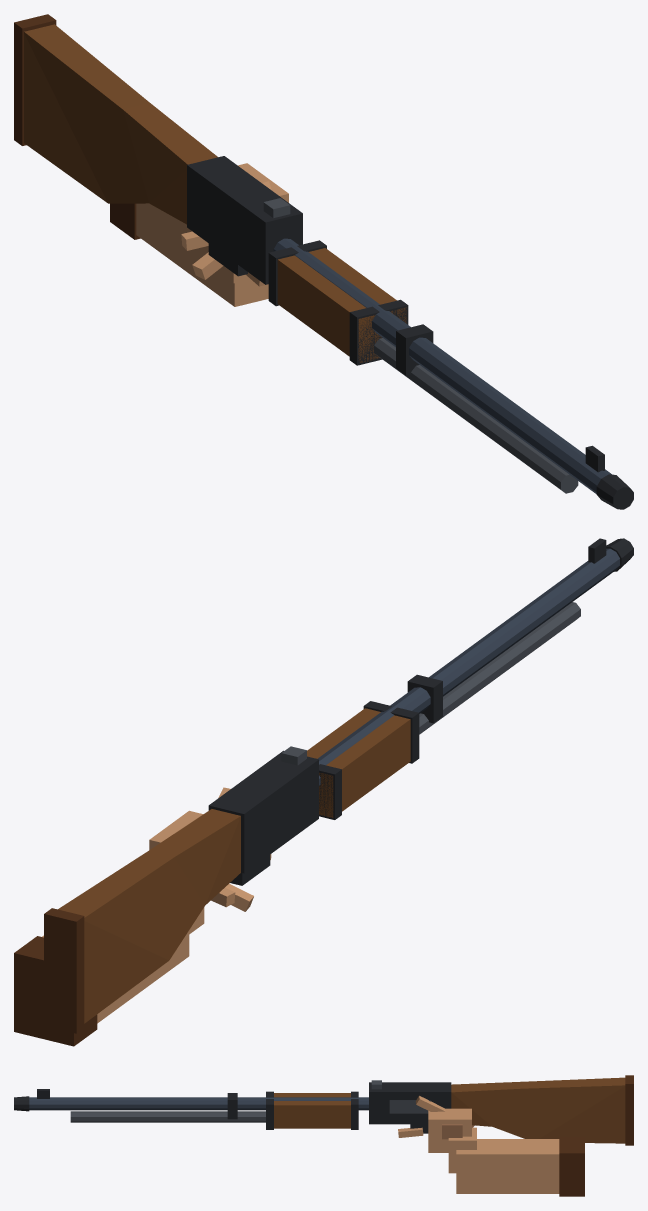
The model's file is shotgun_fps_arm.obj.
3 renders of one model, top to bottom at view 1: azimuth 30°, elevation 25°; view 2: azimuth 150°, elevation 25°; view 3: azimuth 270°, elevation 25°, orthographic. The views are drawn at different scales.
Visible parts, largest first — view 1: stock, barrel, receiver, pump, mag_tube, forearm, hand, sights, sleeve; view 2: stock, barrel, receiver, pump, sleeve, mag_tube, hand, forearm, sights; view 3: stock, forearm, barrel, pump, receiver, hand, mag_tube, sleeve, sights.
Boxes of the visible parts, x1,y1,x2,y2 form: stock: (14, 14, 217, 224); barrel: (273, 238, 633, 509); receiver: (187, 156, 302, 284); pump: (268, 240, 408, 365); mag_tube: (374, 338, 578, 493); forearm: (136, 203, 268, 306); hand: (181, 163, 288, 286); sights: (263, 198, 604, 472); sleeve: (110, 203, 140, 239); stock: (44, 809, 240, 1033); barrel: (317, 538, 633, 785); receiver: (208, 750, 318, 873); pump: (307, 701, 419, 819); sleeve: (14, 936, 97, 1046); mag_tube: (419, 602, 580, 734); hand: (149, 787, 271, 937); forearm: (42, 935, 189, 1023); sights: (281, 538, 606, 765); stock: (451, 1075, 633, 1145); forearm: (456, 1139, 559, 1193); barrel: (14, 1093, 368, 1119); pump: (266, 1091, 358, 1129); receiver: (369, 1082, 451, 1124); hand: (398, 1095, 476, 1173); mag_tube: (70, 1111, 265, 1122); sleeve: (559, 1137, 584, 1196); sights: (37, 1080, 381, 1098).
Bounding box in the file's own units: 0.142 × 0.199 × 1.2.
